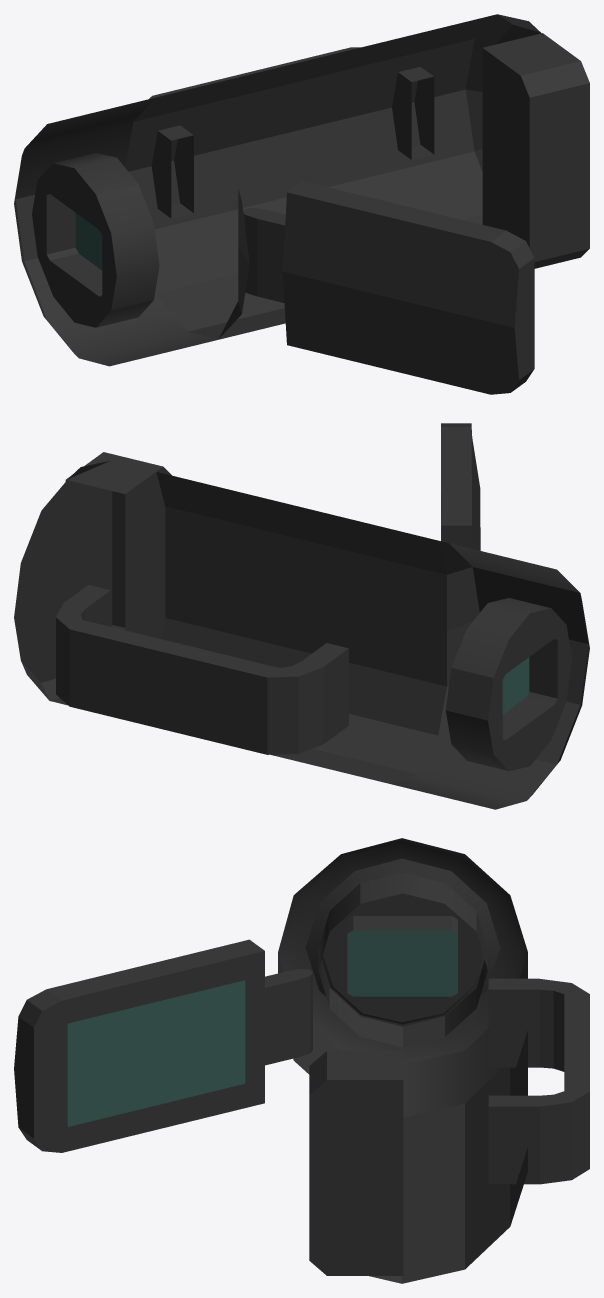
File: Video_camera_low_poly.glb
3 views of the same model, one above another, from view 1: azimuth 30°, elevation 25°; view 2: azimuth 150°, elevation 25°; view 3: azimuth 270°, elevation 25° (orthographic).
Visible parts, largest first — view 1: unnamed (×8); view 2: unnamed (×7); view 3: unnamed (×9).
Boxes of the visible parts, x1,y1,x2,y2 form: unnamed (×8): [14, 14, 589, 394]; unnamed (×7): [14, 423, 589, 809]; unnamed (×9): [14, 838, 589, 1283].
Bounding box in the file's own units: 4.36 × 2 × 4.61.
